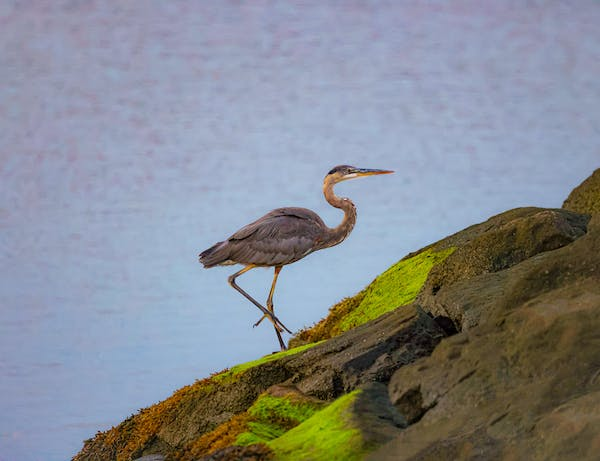Walking: (182, 151, 404, 352)
